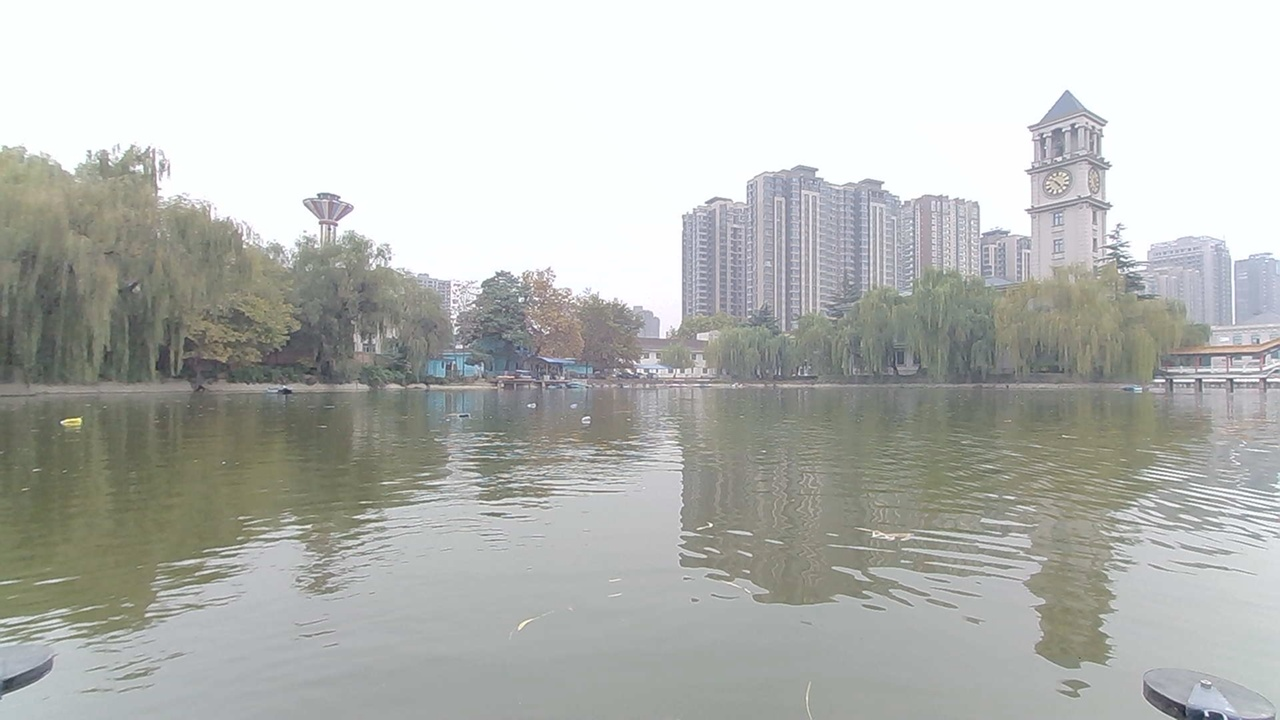bottle: (571, 410, 603, 433), (60, 411, 90, 435), (453, 401, 483, 423), (560, 392, 593, 409), (526, 394, 548, 413)
